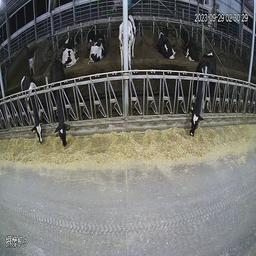cow: (46, 62, 75, 147), (190, 51, 218, 136), (18, 72, 44, 141), (119, 11, 141, 74), (61, 32, 81, 67), (86, 31, 109, 61), (156, 27, 176, 61), (181, 28, 199, 61)
